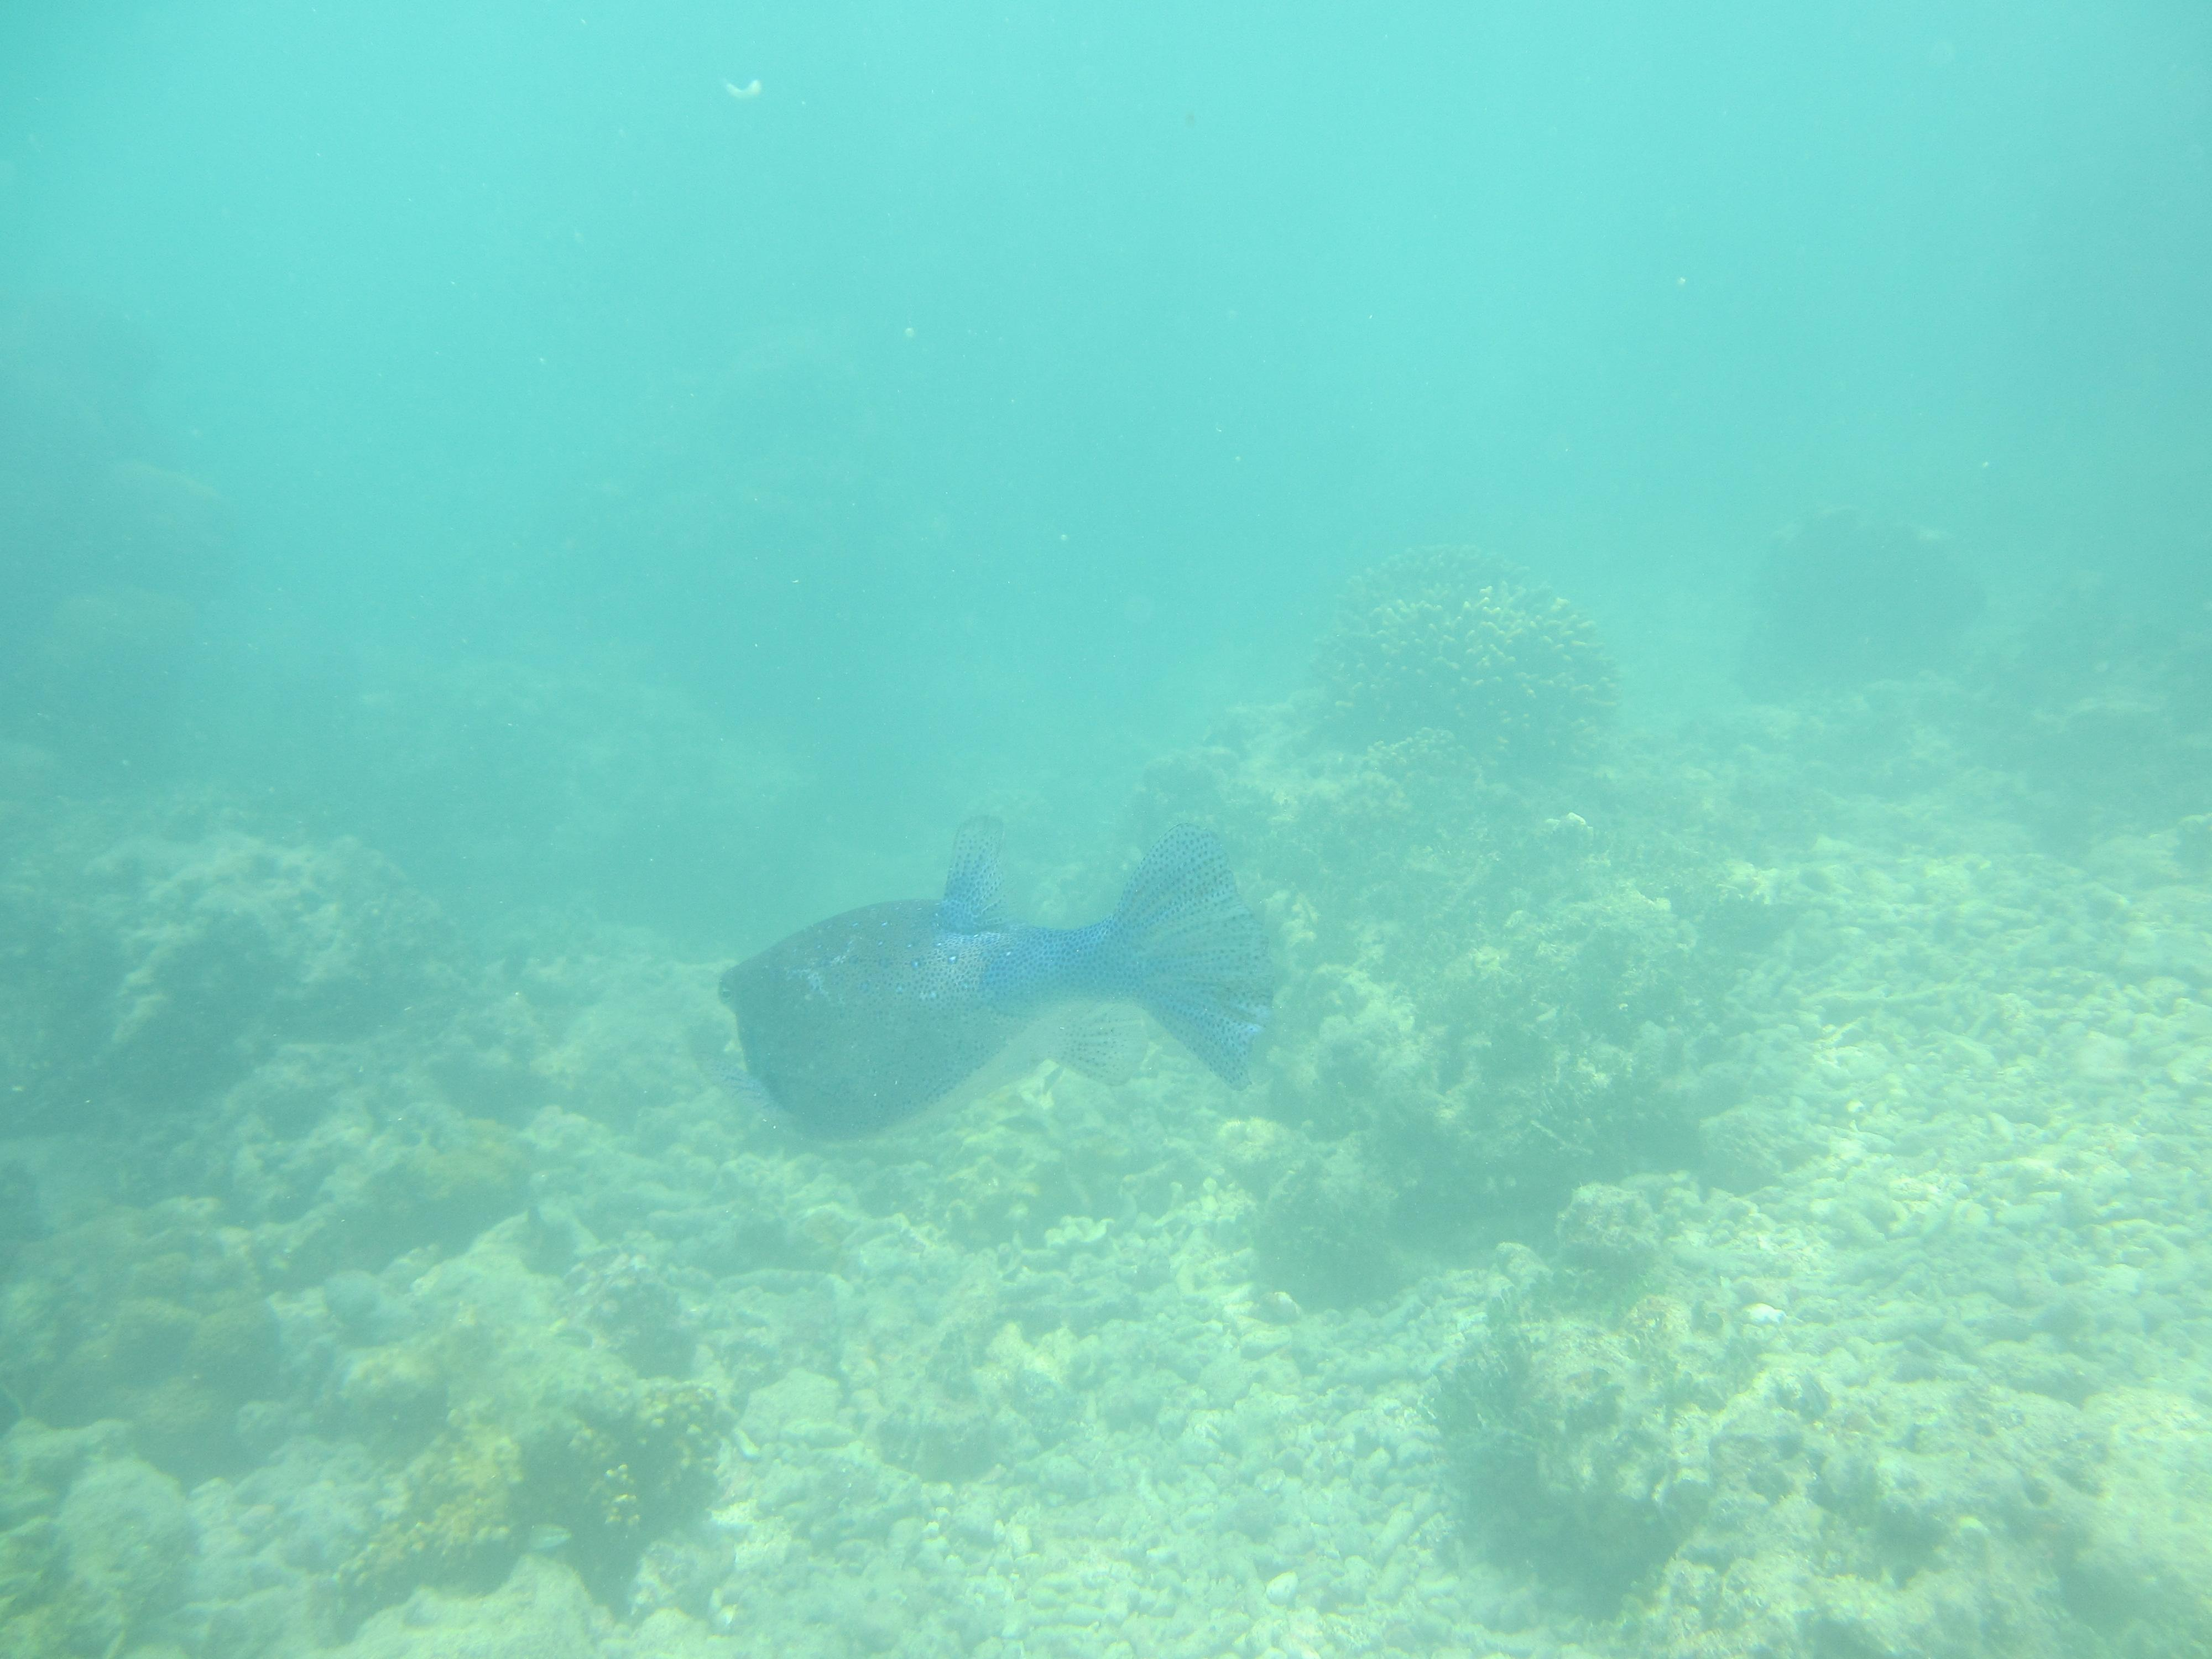Fish: (629, 770, 1366, 1197)
